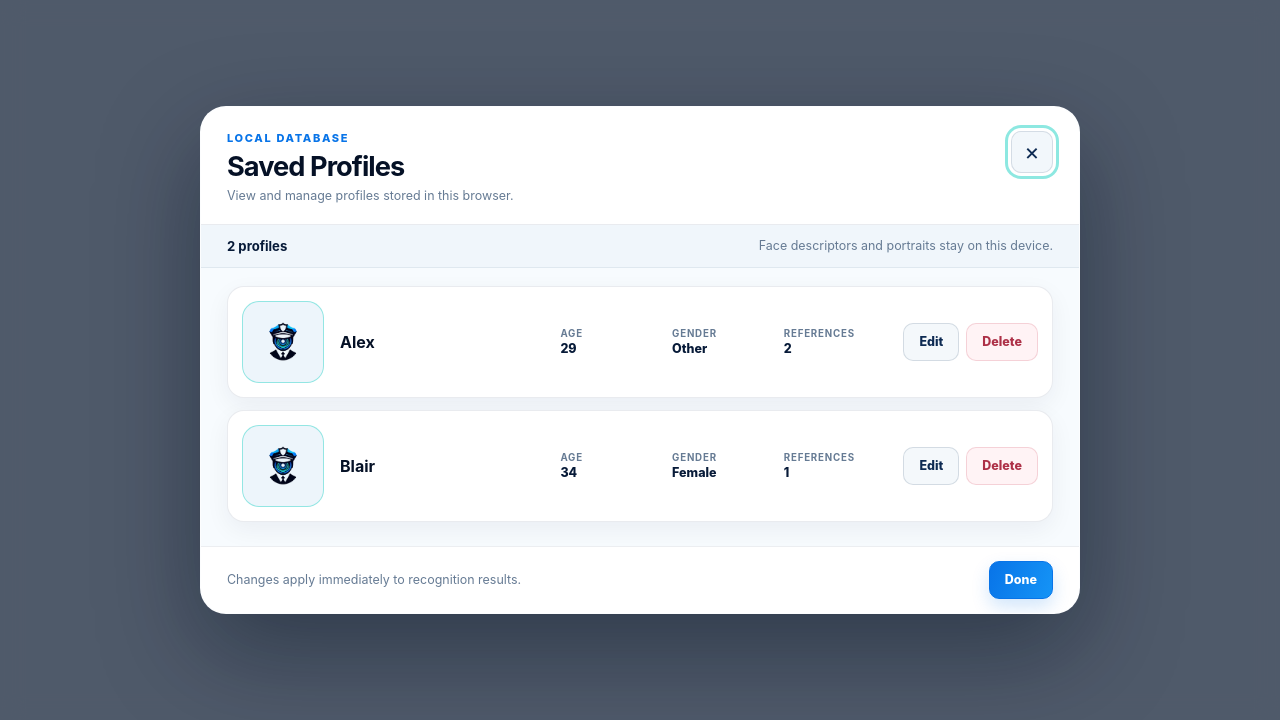
Scenario: edits profile metadata, saves it, and reports the change
Click the button with aria-label "Edit Alex" at (931, 342), box [904,323,959,361]
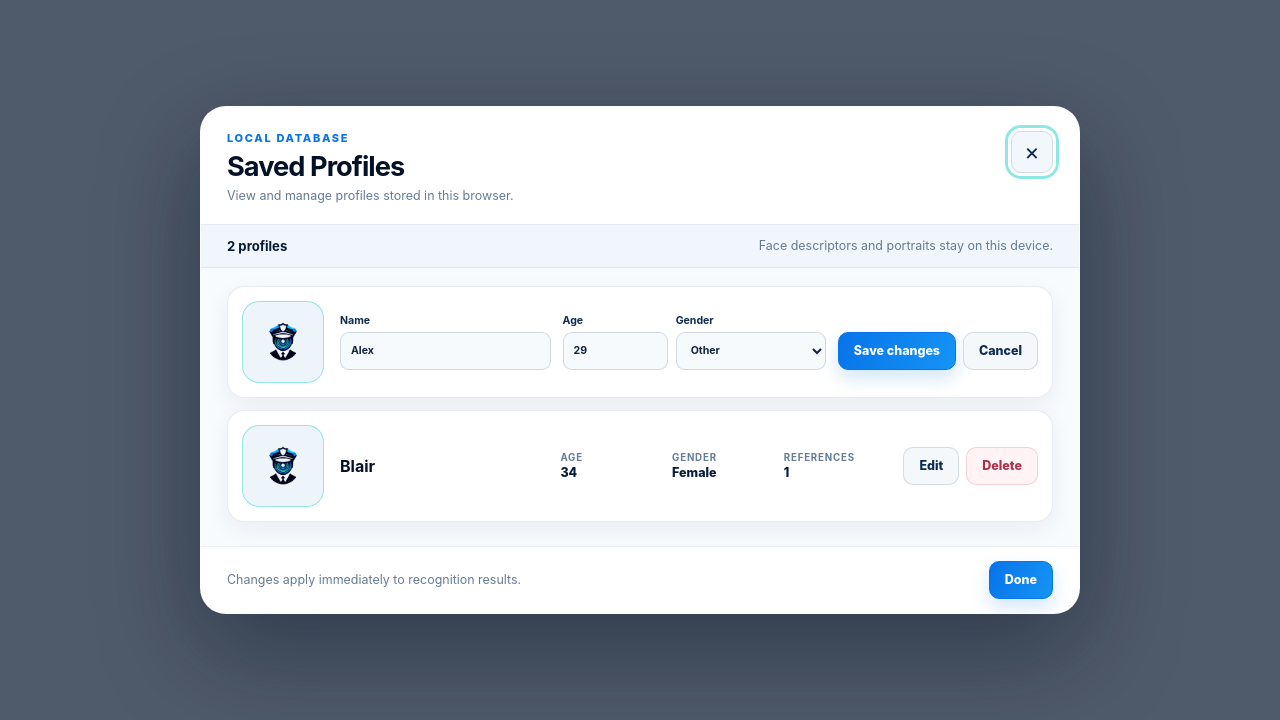
Replace the text in the field labelled "Name" with "Alexis" at (445, 351), box [340,332,551,370]
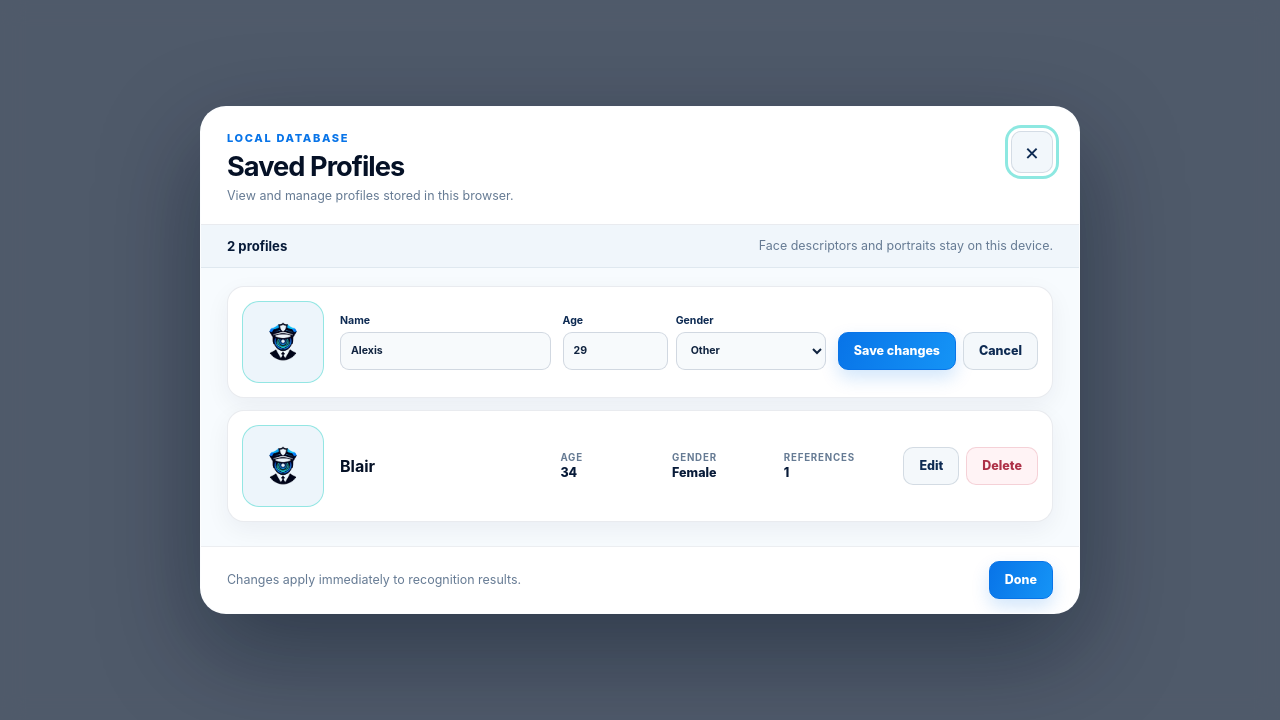
Replace the text in the number field labelled "Age" with "30" at (615, 351), box [563,332,668,370]
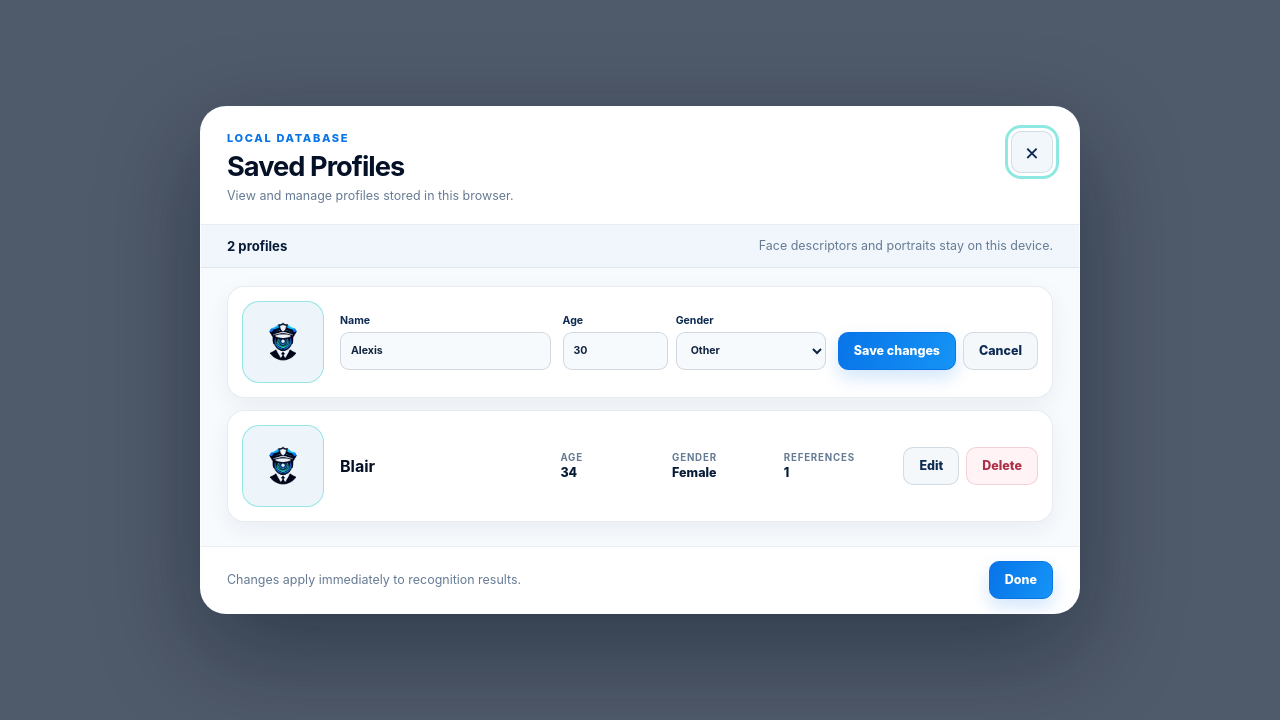
Select "Female" in the dropdown labelled "Gender" at (751, 351), box [676,332,826,370]
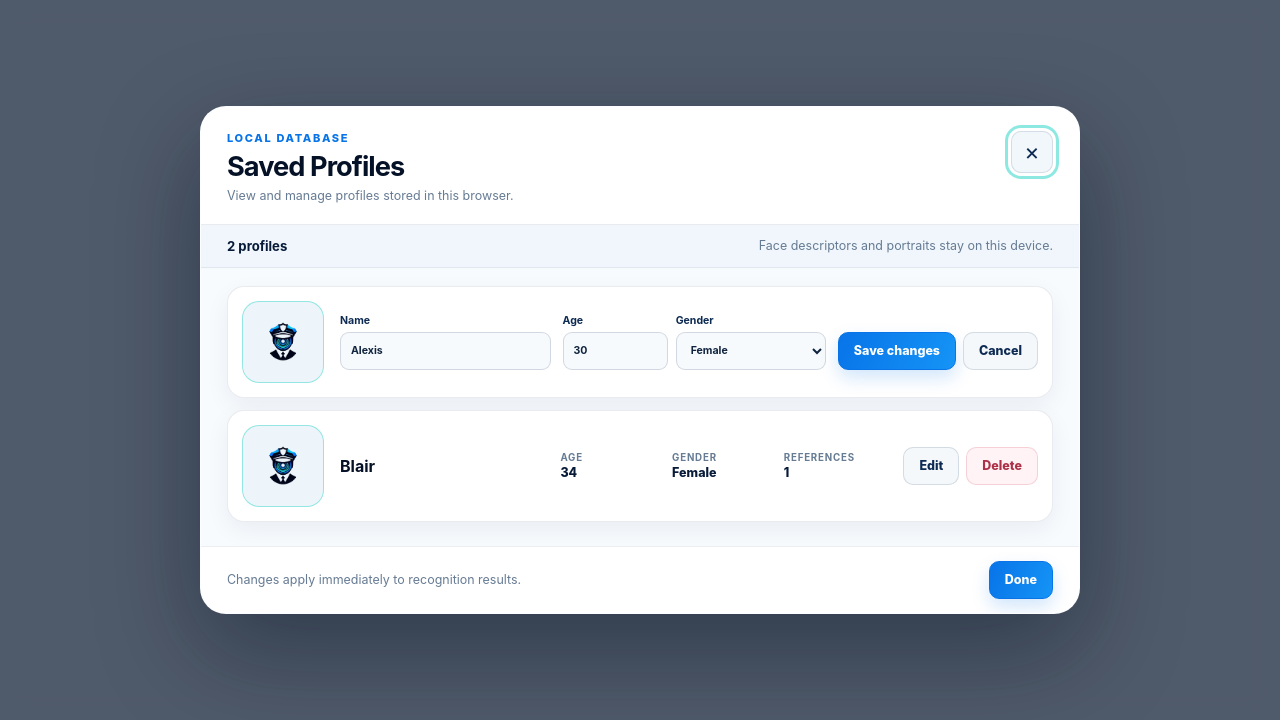
Click the button "Save changes" at (897, 351), box [838,332,956,370]
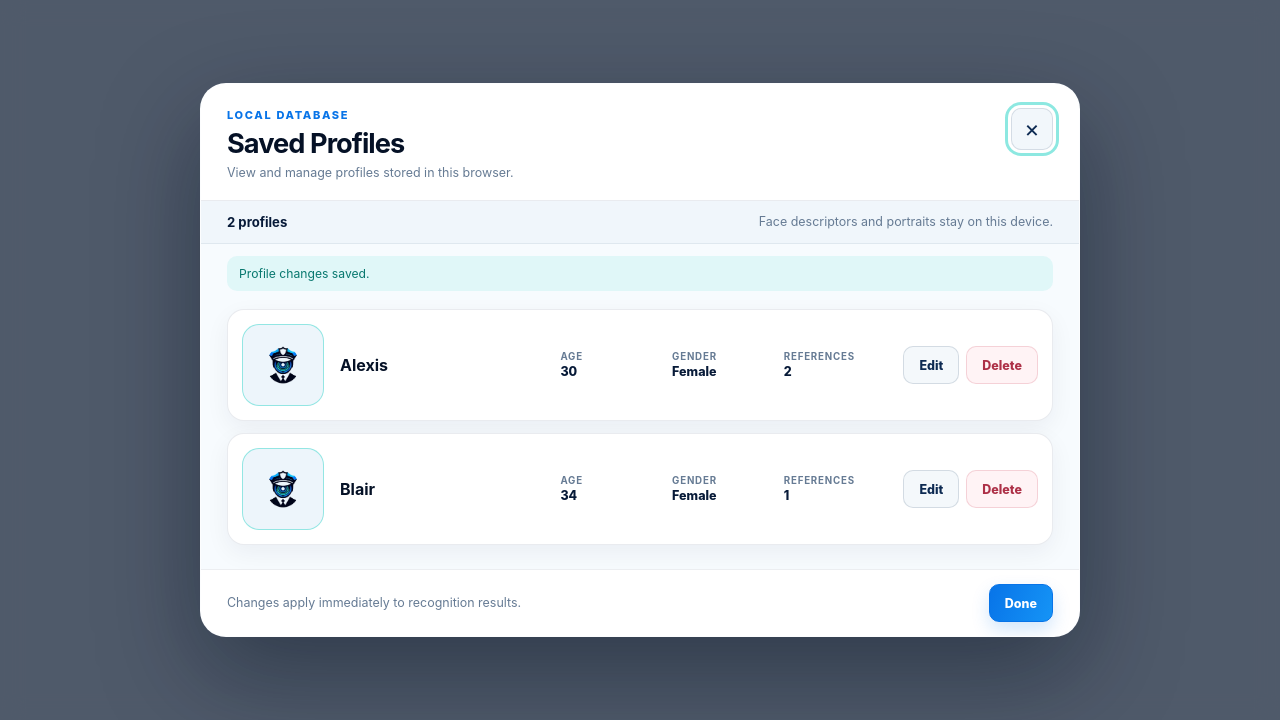
Check: the heading "Alexis" is shown, box [340,355,388,375]
Check: the message reads "Profile changes saved.", box [239,266,370,281]
